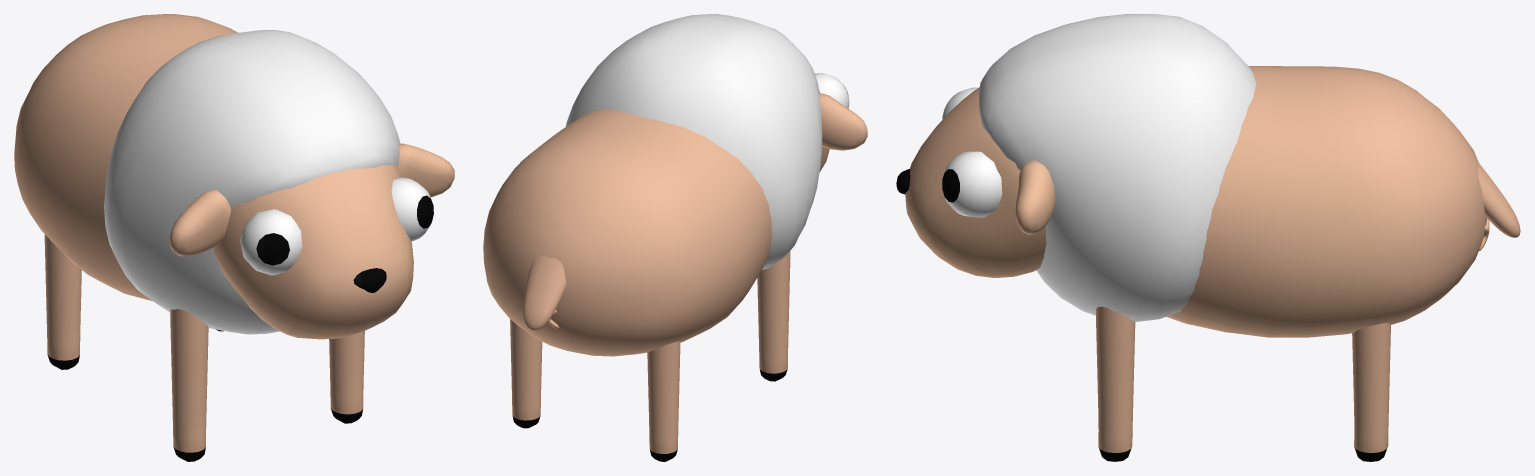
Rendered from Sheep_naked.fbx.
The picture shows the model from 3 angles, left to right: view 1: azimuth 30°, elevation 25°; view 2: azimuth 150°, elevation 25°; view 3: azimuth 270°, elevation 25°; orthographic projection. The views are drawn at different scales.
Visible parts, largest first — view 1: Sheep_naked; view 2: Sheep_naked; view 3: Sheep_naked.
Boxes of the visible parts, x1,y1,x2,y2 form: Sheep_naked: (14, 14, 454, 461); Sheep_naked: (483, 14, 867, 461); Sheep_naked: (896, 14, 1520, 461).
Size of the model in its own units: 143 by 186 by 269.
